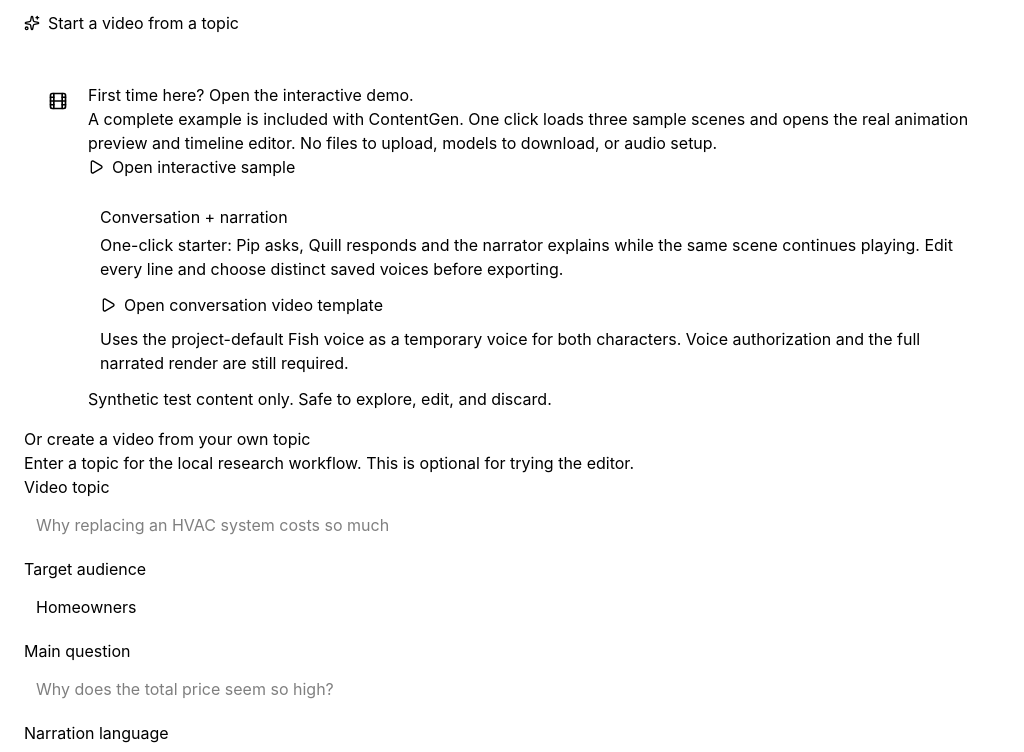
Scenario: topic-first production workflow › keeps captured evidence if story generation fails, then retries without recapturing
Type "Roof costs" into the field named "New video topic".
click(512, 525); type("Roof costs")  # box [24,505,1000,545]
(page scrolled)
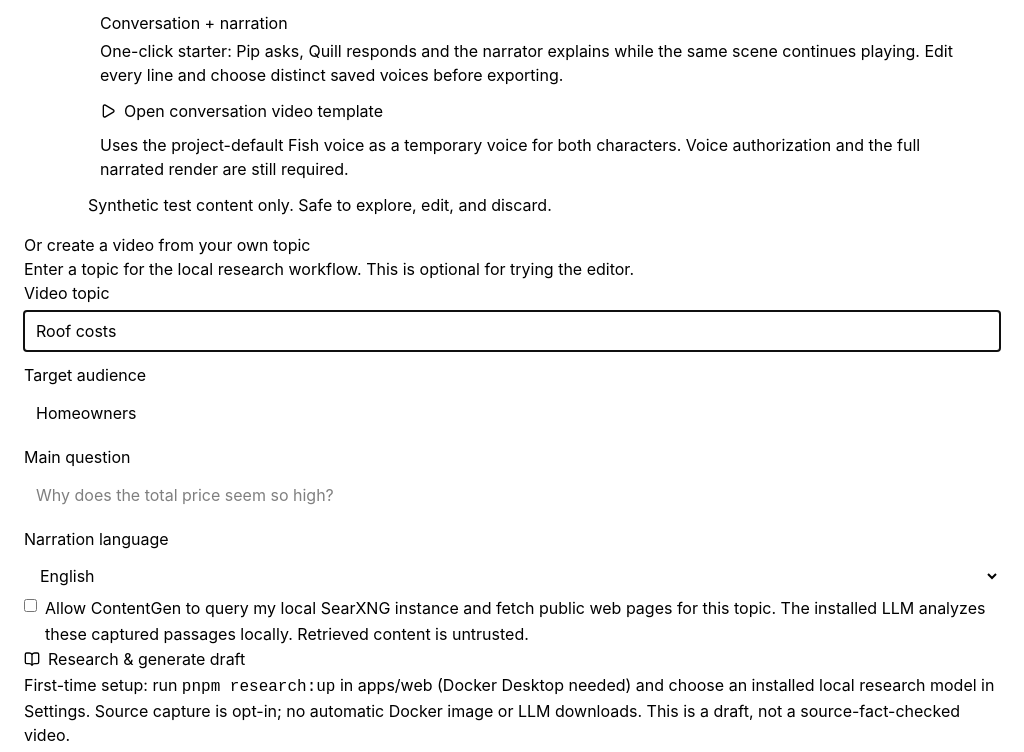
Click the checkbox named "Allow public web research".
click(30, 606)  # box [24,599,37,612]
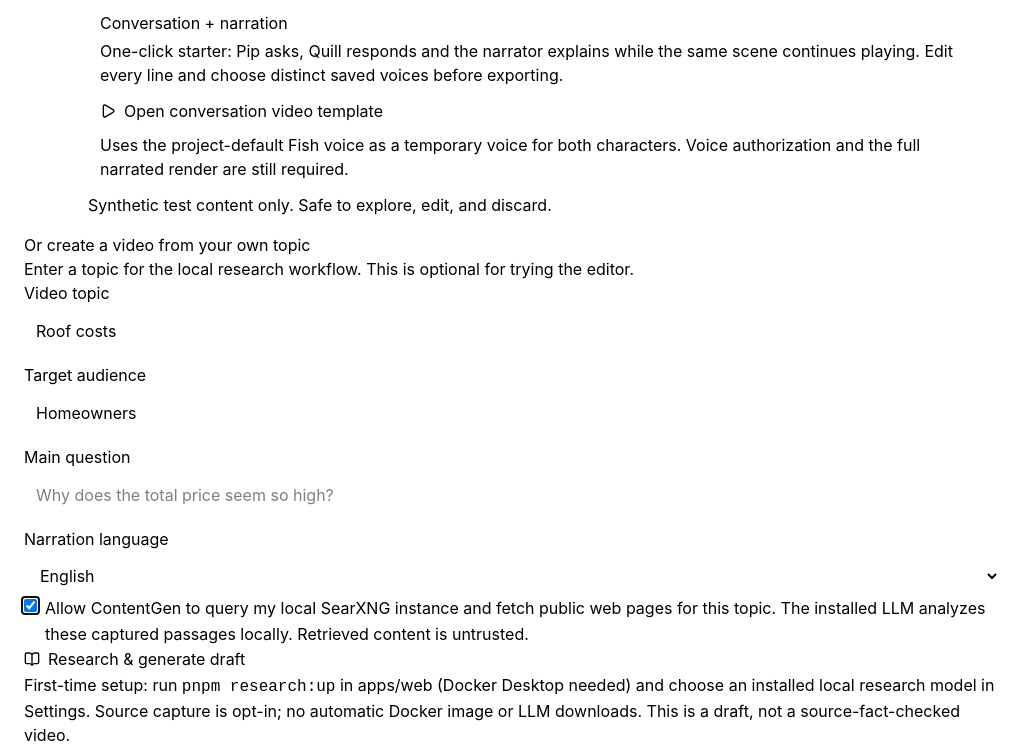
Click the button "Research & generate draft".
click(135, 659)  # box [24,647,245,671]
(page scrolled)
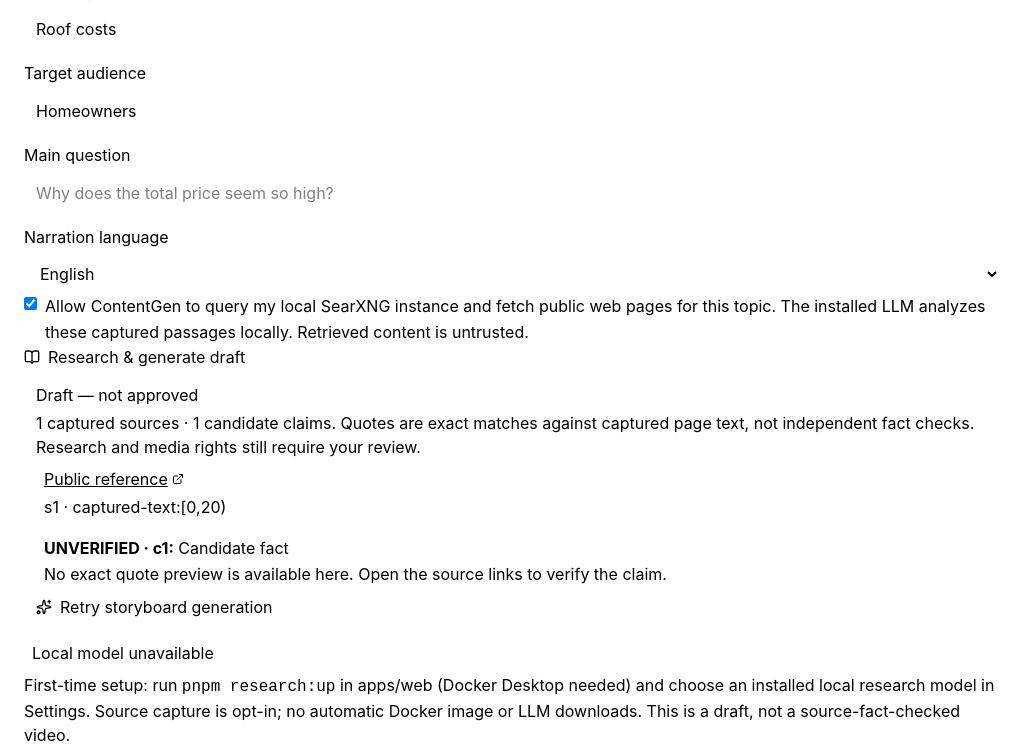
Check: the message reads "Local model unavailable", box [32,643,214,663]
Check: the link "Public reference" is shown, box [44,469,184,489]
Click the button "Retry storyboard generation".
click(154, 607)  # box [36,595,272,619]
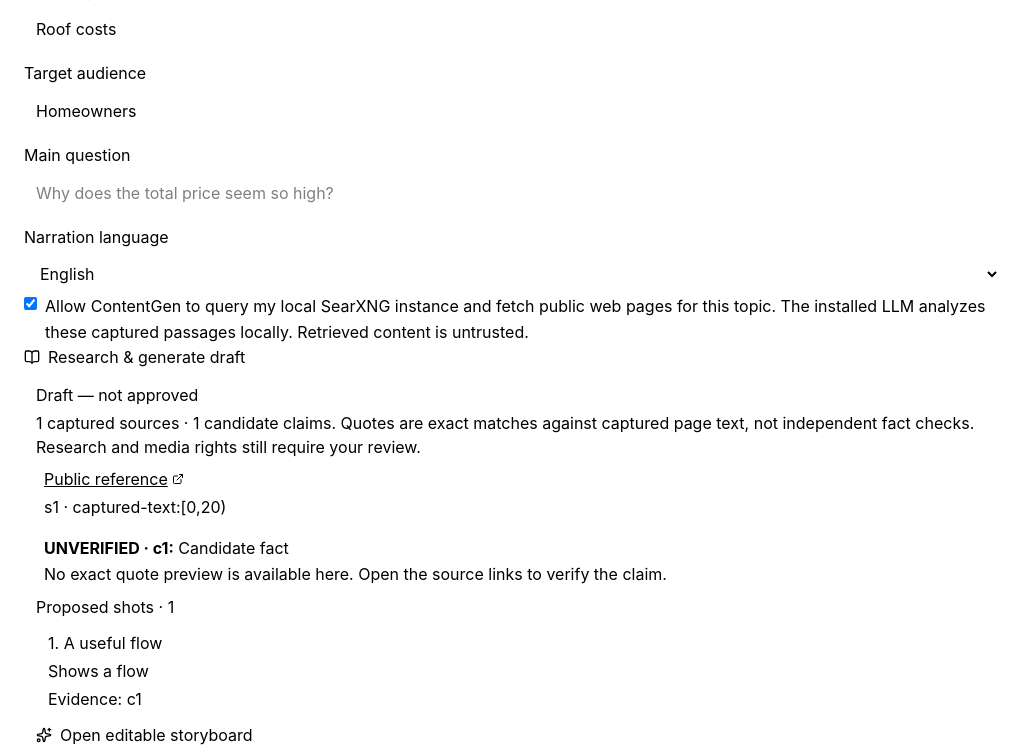
Check: the text "1. A useful flow" is shown, box [48,633,162,653]
Check: the message "Local model unavailable" is gone
